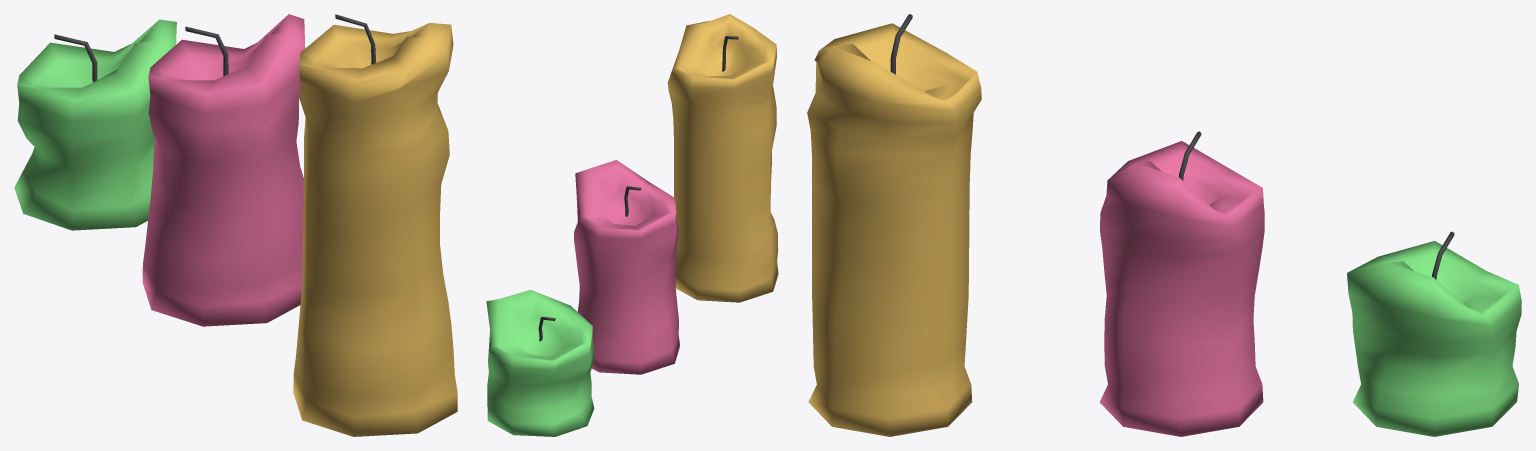
Rendered from Candle.fbx.
3 renders of one model, left to right at view 1: azimuth 30°, elevation 25°; view 2: azimuth 150°, elevation 25°; view 3: azimuth 270°, elevation 25°, orthographic. The views are drawn at different scales.
Visible parts, largest first — view 1: Candle3, Candle2, Candle; view 2: Candle3, Candle2, Candle; view 3: Candle3, Candle2, Candle.
Boxes of the visible parts, left/top/right/bottom form: Candle3: left=293, top=14, right=457, bottom=436; Candle2: left=142, top=14, right=305, bottom=326; Candle: left=14, top=19, right=176, bottom=230; Candle3: left=667, top=14, right=778, bottom=302; Candle2: left=574, top=160, right=679, bottom=374; Candle: left=486, top=290, right=594, bottom=436; Candle3: left=807, top=14, right=981, bottom=436; Candle2: left=1099, top=131, right=1264, bottom=436; Candle: left=1347, top=231, right=1521, bottom=436.
Size of the model in its own units: 217 by 503 by 870.
